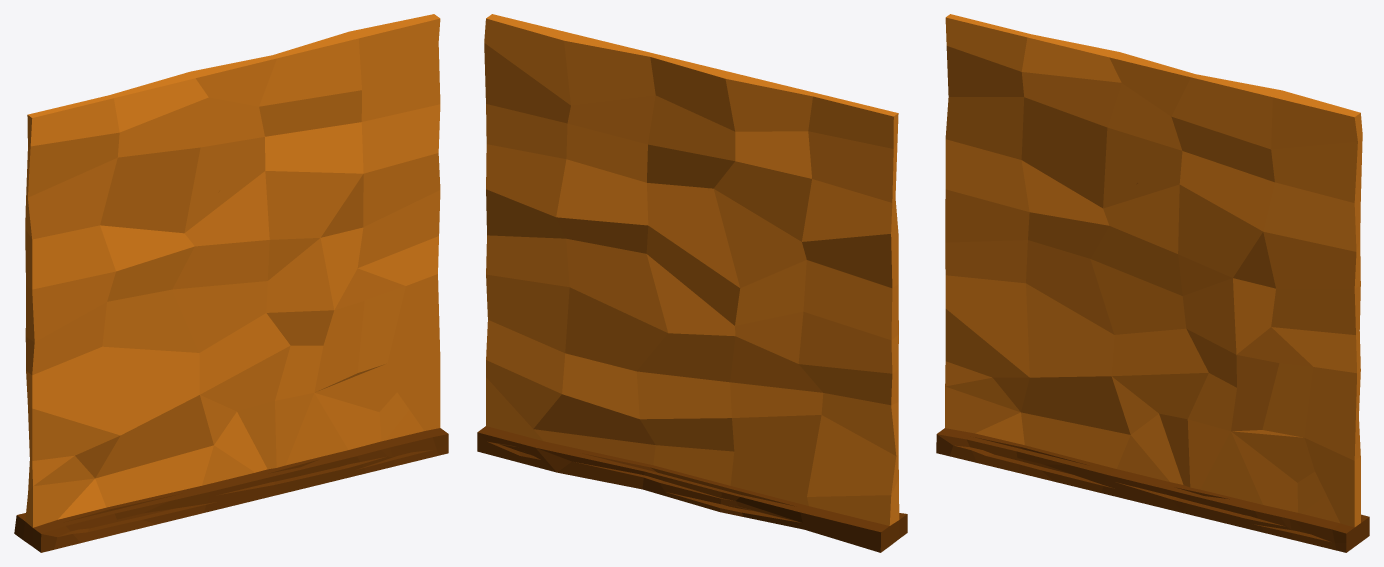
Rendered from Interior_WoodenWall.fbx.
3 views of the same model, side by side, from view 1: azimuth 30°, elevation 25°; view 2: azimuth 150°, elevation 25°; view 3: azimuth 330°, elevation 25° (orthographic).
Parts seen in each view (by area): view 1: Interior_WoodenWall; view 2: Interior_WoodenWall; view 3: Interior_WoodenWall.
Part boxes in pixels (x1,y1,x2,y2): Interior_WoodenWall: (14, 14, 448, 552); Interior_WoodenWall: (477, 14, 907, 552); Interior_WoodenWall: (936, 14, 1369, 552).
Bounding box in the file's own units: 200 × 200 × 22.77.
